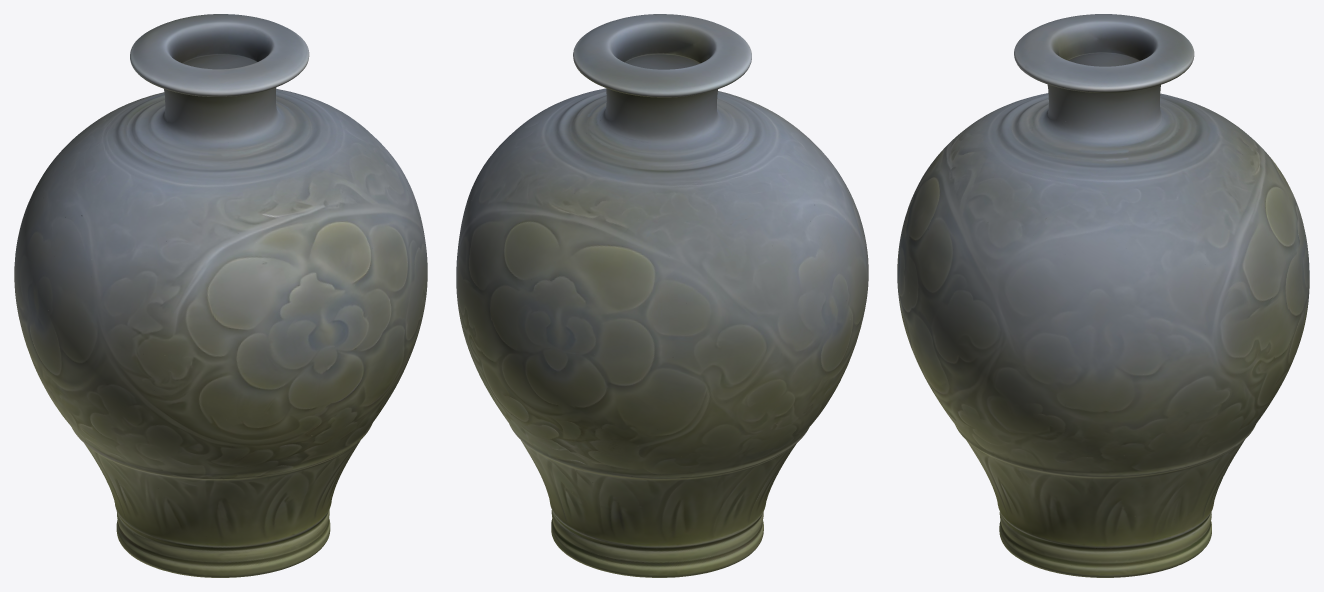
3 renders of one model, left to right at view 1: azimuth 30°, elevation 25°; view 2: azimuth 150°, elevation 25°; view 3: azimuth 270°, elevation 25°, orthographic.
Visible parts, largest first — view 1: node_0; view 2: node_0; view 3: node_0.
Part boxes in pixels (<box>): node_0: <box>14,14,427,577</box>; node_0: <box>456,14,868,577</box>; node_0: <box>897,14,1309,577</box>.
Size of the model in its own units: 0.8531 by 1.12 by 0.8548.
Materials: 1 (1 with a texture image).
